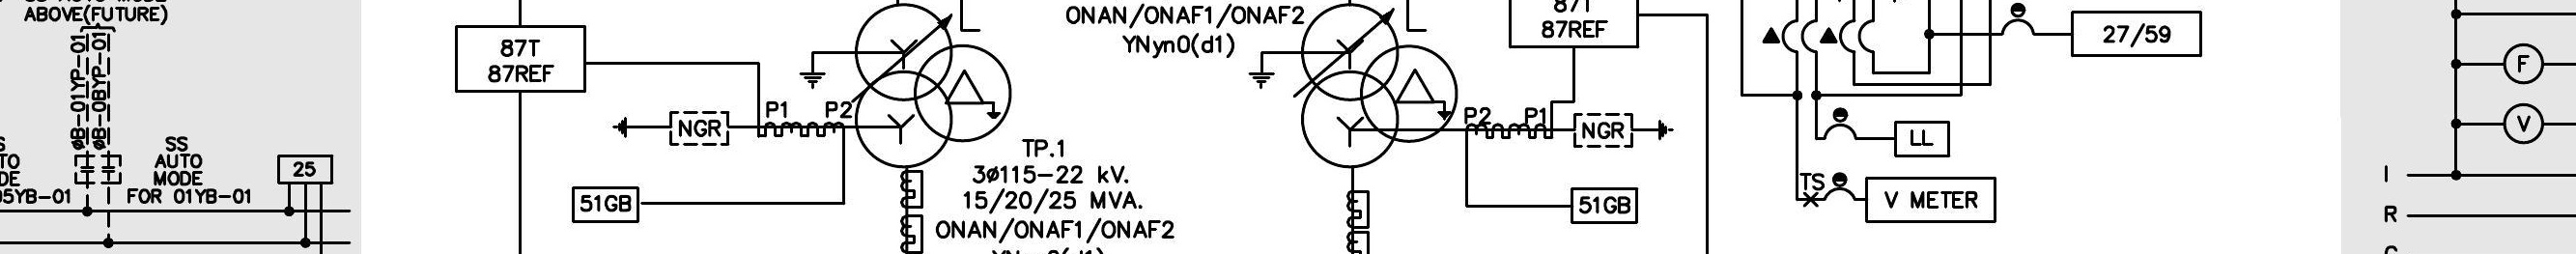11522_tx_ynyn0d1: (854, 2, 1014, 169), (1299, 2, 1459, 169)
LL: (1894, 120, 1952, 159)
NGR_future: (611, 110, 729, 147), (1572, 113, 1674, 149)
v_m_digital: (1865, 175, 1998, 225)
